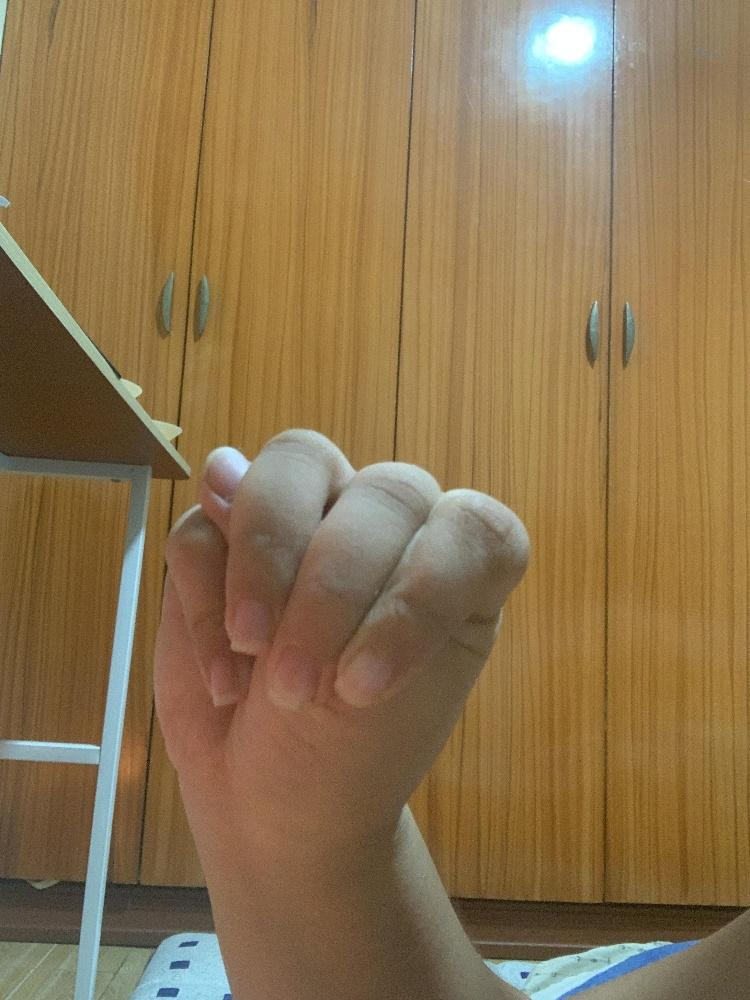m: (148, 425, 532, 857)
